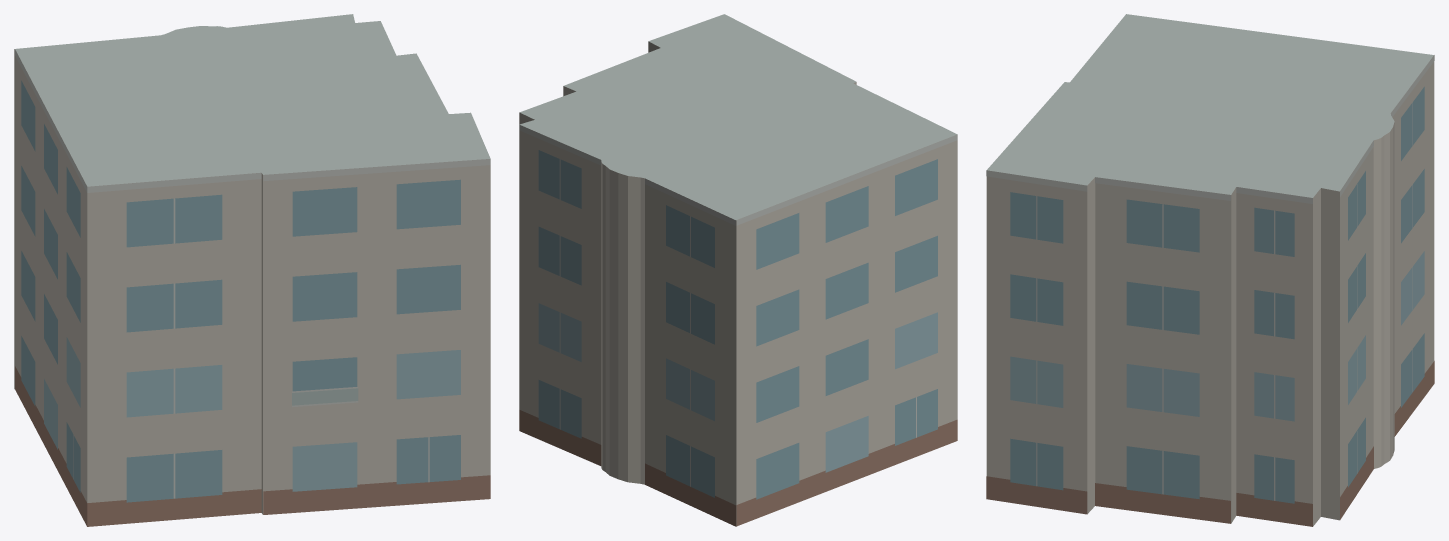
File: survey-upis-32961936.glb
3 renders of one model, left to right at view 1: azimuth 30°, elevation 25°; view 2: azimuth 150°, elevation 25°; view 3: azimuth 270°, elevation 25°, orthographic. The views are drawn at different scales.
Parts seen in each view (by area): view 1: survey-upis-32961936.tmp; view 2: survey-upis-32961936.tmp; view 3: survey-upis-32961936.tmp.
Part boxes in pixels (x1,y1,x2,y2): survey-upis-32961936.tmp: (14,14,490,526); survey-upis-32961936.tmp: (519,14,957,526); survey-upis-32961936.tmp: (986,14,1434,526).
Size of the model in its own units: 15.73 by 13.1 by 16.18.
